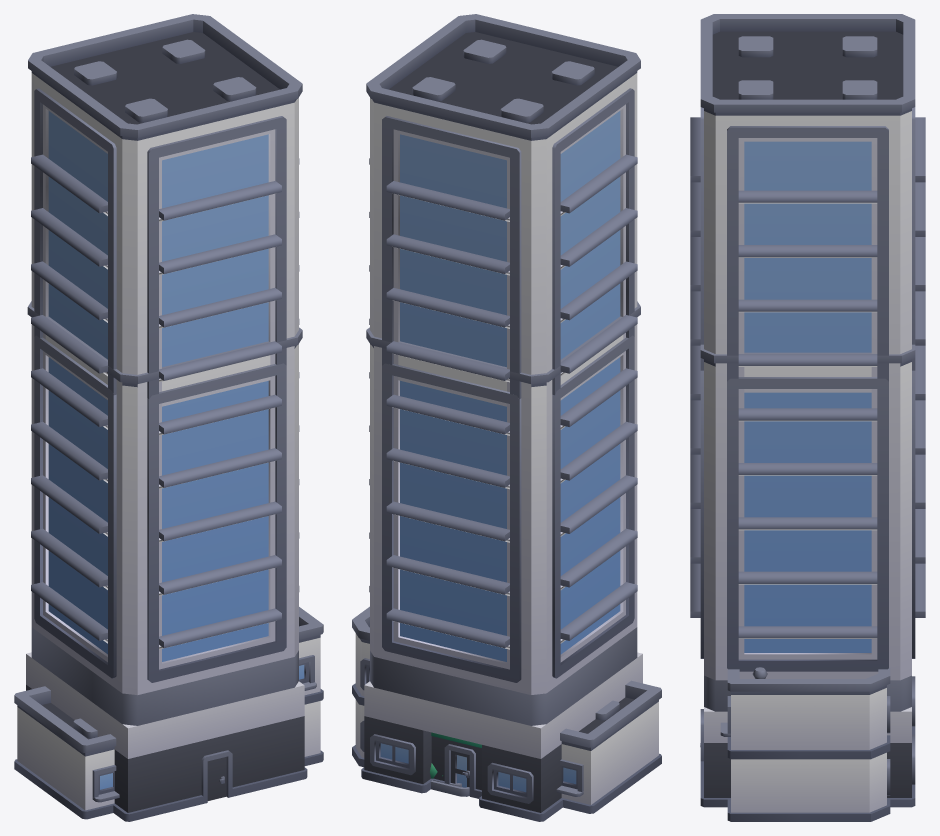
File: city.glb
The picture shows the model from 3 angles, left to right: view 1: azimuth 30°, elevation 25°; view 2: azimuth 150°, elevation 25°; view 3: azimuth 270°, elevation 25°; orthographic projection.
Parts seen in each view (by area): view 1: building-skyscraper-b, building-skyscraper-a, building-e; view 2: building-skyscraper-b, building-skyscraper-a, building-e; view 3: building-skyscraper-b, building-skyscraper-a, building-e.
Part boxes in pixels (x1,y1,x2,y2): building-skyscraper-b: (26, 14, 307, 814); building-skyscraper-a: (27, 301, 307, 821); building-e: (14, 607, 323, 819); building-skyscraper-b: (361, 14, 642, 814); building-skyscraper-a: (361, 301, 640, 821); building-e: (352, 606, 661, 813); building-skyscraper-b: (690, 14, 925, 799); building-skyscraper-a: (690, 344, 925, 807); building-e: (720, 667, 890, 821).
Bounding box in the file's own units: 1.64 × 4.48 × 1.36.
Materials: 1 (1 with a texture image).
